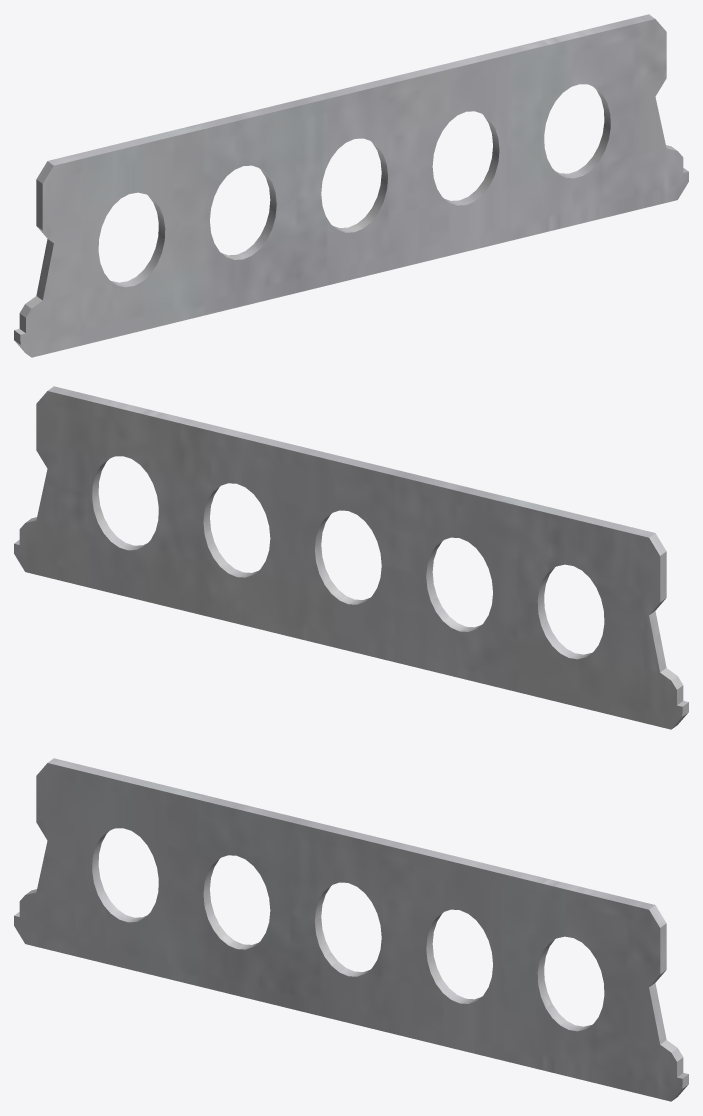
File: hourdis_16_60.glb
3 views of the same model, one above another, from view 1: azimuth 30°, elevation 25°; view 2: azimuth 150°, elevation 25°; view 3: azimuth 330°, elevation 25° (orthographic).
Size of the model in its own units: 60 by 16 by 1.
1 material, 1 textured.
